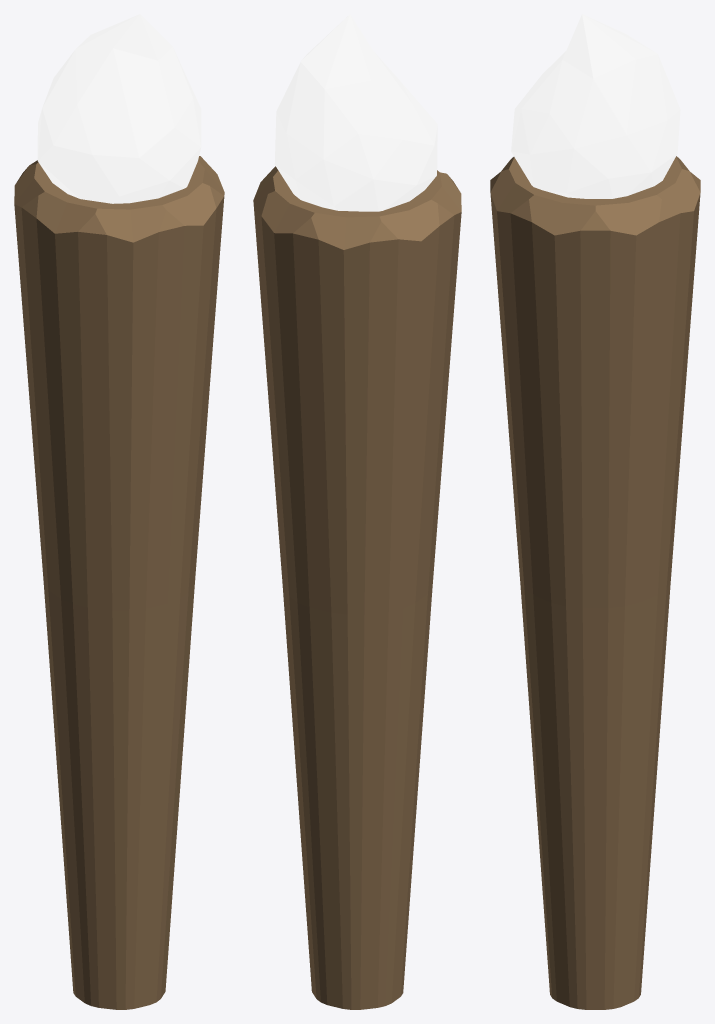
File: Torchnyny.glb
The picture shows the model from 3 angles, left to right: view 1: azimuth 30°, elevation 25°; view 2: azimuth 150°, elevation 25°; view 3: azimuth 270°, elevation 25°; orthographic projection.
Visible parts, largest first — view 1: Cylinder, Icosphere; view 2: Cylinder, Icosphere; view 3: Cylinder, Icosphere.
Part boxes in pixels (x1,y1,x2,y2): Cylinder: (14, 156, 224, 1009); Icosphere: (37, 14, 201, 203); Cylinder: (253, 166, 461, 1009); Icosphere: (274, 14, 437, 211); Cylinder: (490, 156, 700, 1009); Icosphere: (511, 14, 680, 198).
Size of the model in its own units: 0.3111 by 1.61 by 0.3111.
